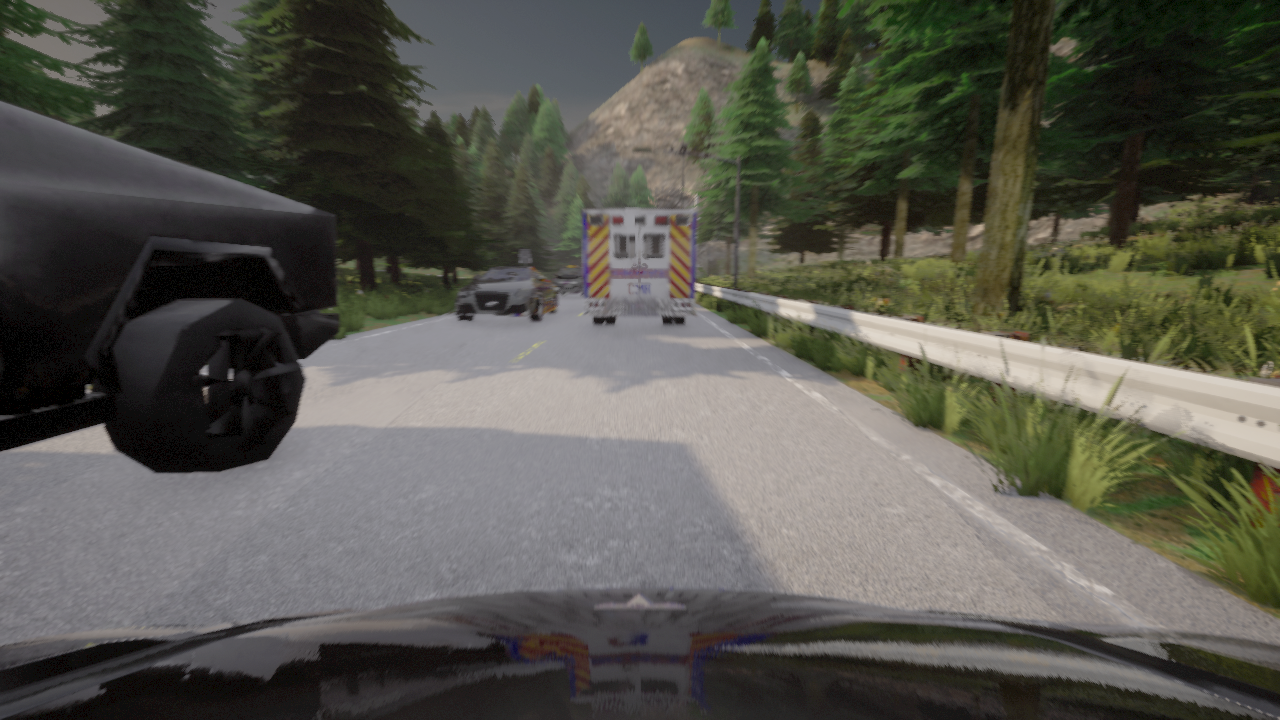cyclist: (0, 588, 1279, 719), (582, 210, 696, 325), (456, 267, 557, 321), (553, 267, 583, 296)
